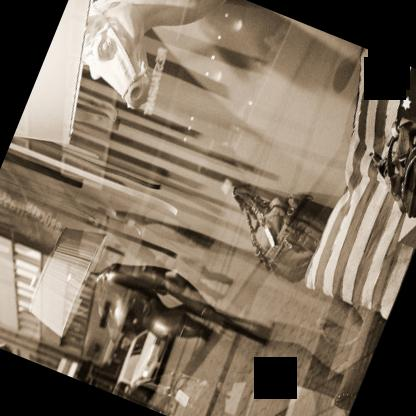handbag: (234, 183, 325, 282), (367, 115, 416, 218)
